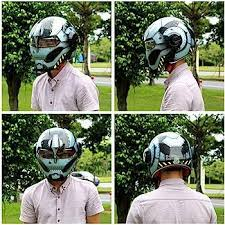helmets: (129, 14, 204, 73), (26, 126, 85, 187), (21, 14, 79, 73), (135, 129, 204, 178)
